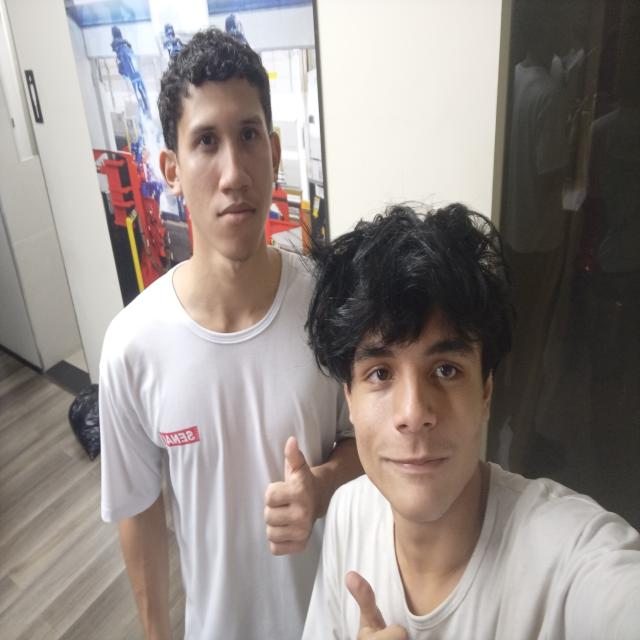sem_oculos: (336, 322, 512, 392), (159, 106, 271, 168)
